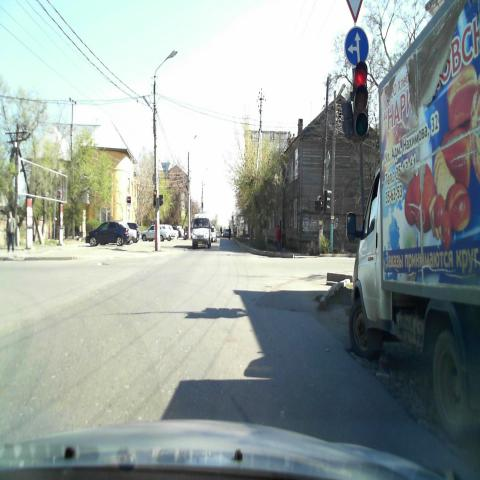4_1_5: (343, 25, 370, 68)
